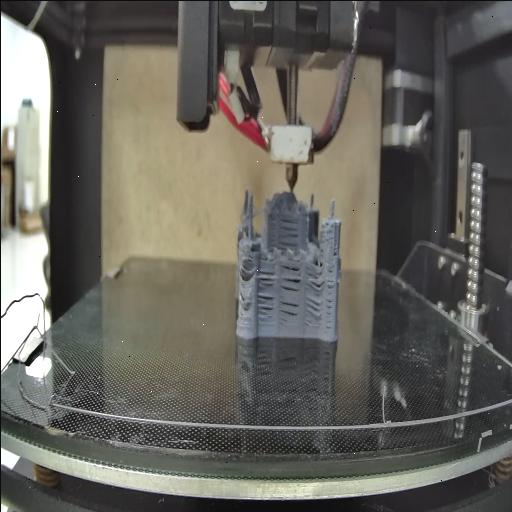cracks: (256, 264, 274, 326), (276, 216, 298, 249), (324, 268, 334, 332), (278, 266, 301, 292), (276, 298, 298, 322), (305, 295, 323, 319), (306, 268, 324, 290), (235, 286, 247, 310), (236, 264, 250, 284), (332, 244, 336, 256)
